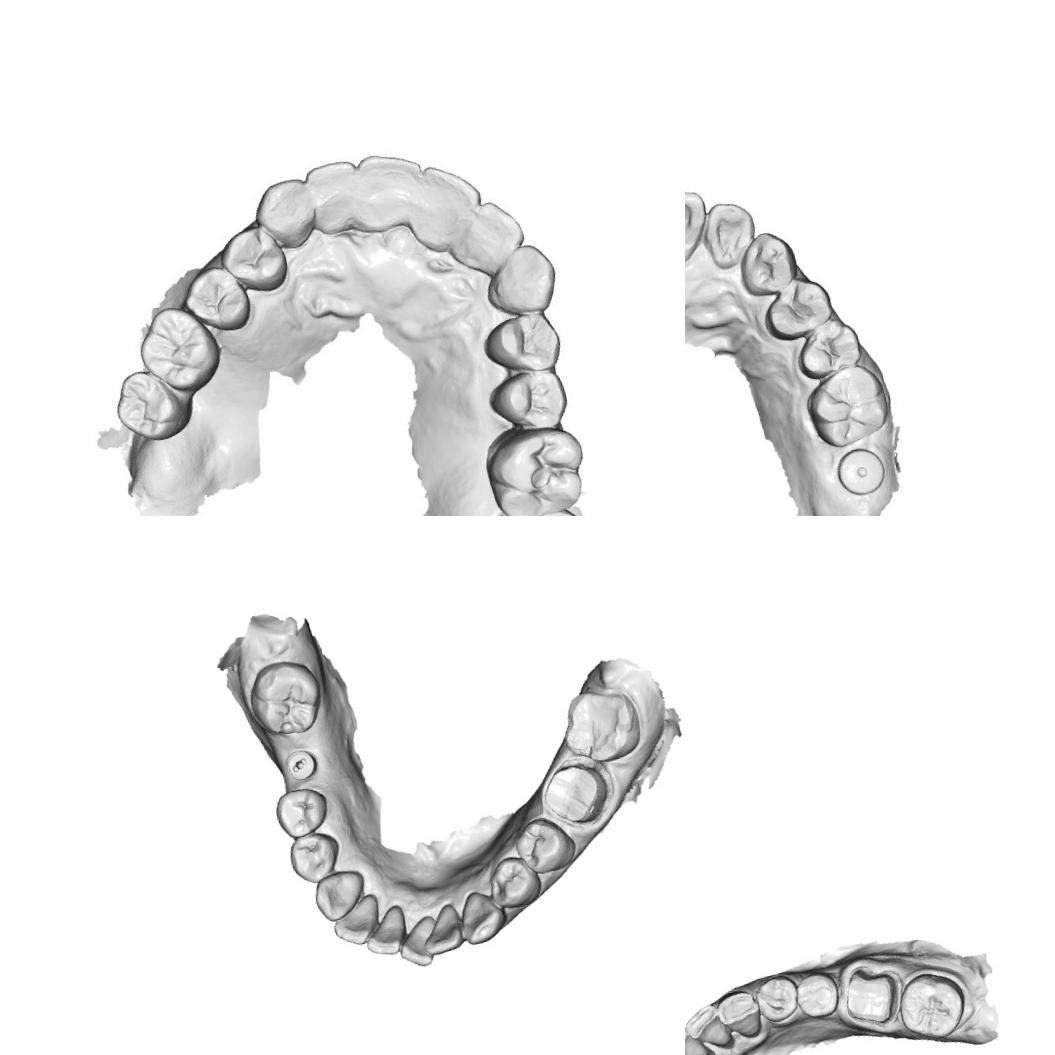canine: (480, 238, 562, 318), (250, 171, 322, 257), (734, 224, 802, 298), (308, 866, 371, 924), (454, 884, 512, 946), (712, 984, 766, 1044)
crown: (535, 749, 618, 832), (837, 958, 907, 1032)
implant: (830, 440, 894, 500)
implant_minus: (279, 740, 324, 788)
incisor: (348, 146, 432, 237), (402, 162, 484, 255), (447, 202, 522, 278), (303, 156, 366, 236), (700, 196, 761, 269), (326, 890, 386, 950), (390, 906, 441, 972), (358, 900, 412, 961), (416, 900, 467, 958), (685, 183, 715, 268), (685, 1000, 733, 1053), (685, 1019, 711, 1055)
molar: (798, 356, 896, 453), (133, 296, 226, 398), (484, 428, 586, 516), (554, 678, 648, 769), (107, 360, 192, 450), (240, 654, 326, 742), (891, 965, 972, 1046)
premolar: (178, 258, 256, 337), (482, 363, 568, 433), (755, 273, 836, 346), (476, 310, 560, 378), (219, 218, 289, 296), (790, 312, 865, 384), (510, 810, 580, 878), (484, 848, 550, 914), (268, 782, 334, 843), (284, 827, 345, 887), (791, 966, 844, 1023), (752, 970, 802, 1026)
